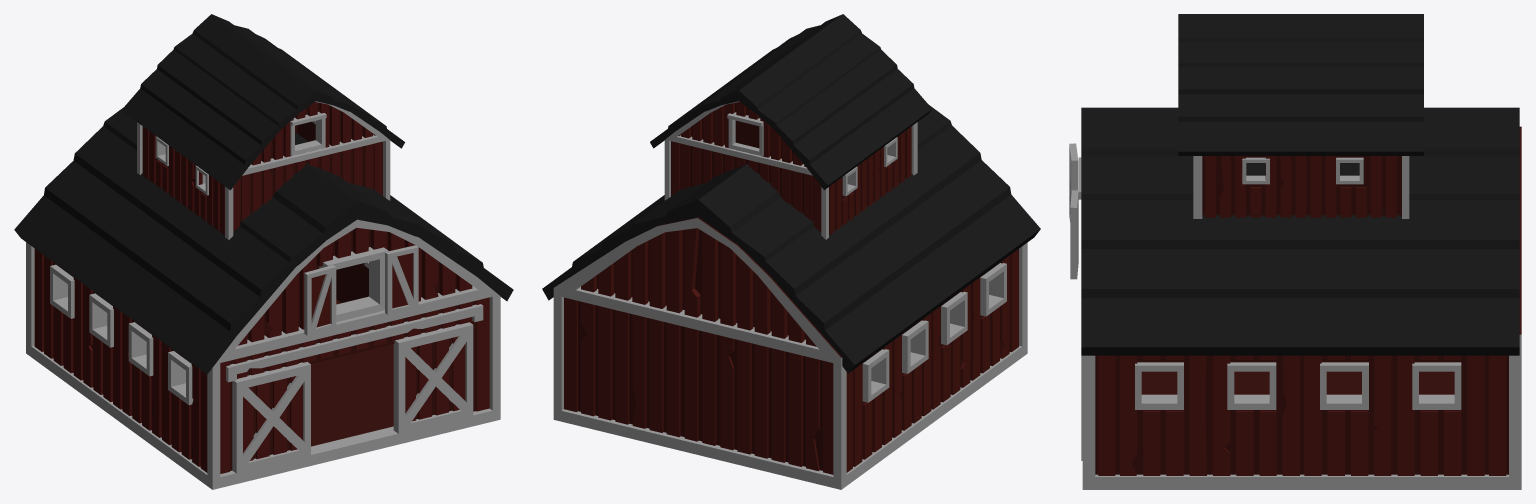
File: BigBarn.obj
3 views of the same model, side by side, from view 1: azimuth 30°, elevation 25°; view 2: azimuth 150°, elevation 25°; view 3: azimuth 270°, elevation 25° (orthographic). The views are drawn at different scales.
Visible parts, largest first — view 1: BigBarn; view 2: BigBarn; view 3: BigBarn.
Boxes of the visible parts, left/top/right/bottom form: BigBarn: left=14, top=14, right=513, bottom=489; BigBarn: left=542, top=14, right=1040, bottom=489; BigBarn: left=1069, top=14, right=1521, bottom=489.
Size of the model in its own units: 7.73 by 7.89 by 8.22.
